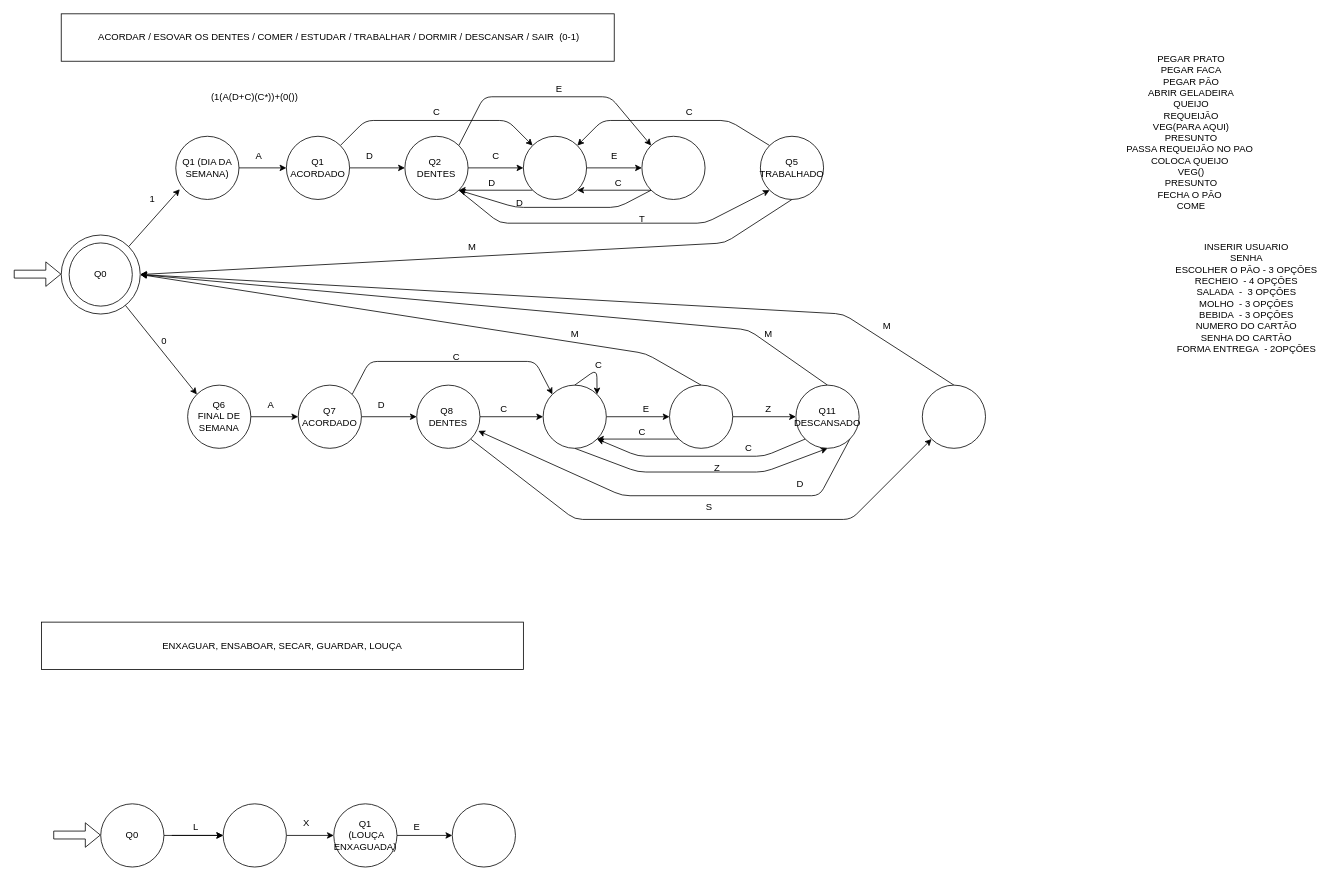
Some shapes in this 1338 by 881 pixel diagram are drawn without their labels. The shapes that lost their labels are listed below. From the top down, each one's box as (x1, y1, x2, y2) in pixels, then its label:
(523, 135, 587, 199): Q3 COMIDO
(641, 135, 705, 199): Q4 ESTUDADO
(542, 384, 606, 448): Q9 COMIDO
(669, 384, 733, 448): Q10 ESTUDADO
(922, 384, 986, 448): Q12 SAIDO
(222, 803, 286, 867): Q1 (TEM LOUÇA)
(451, 803, 515, 867): Q2 (LOUÇA COM SABÂO)
